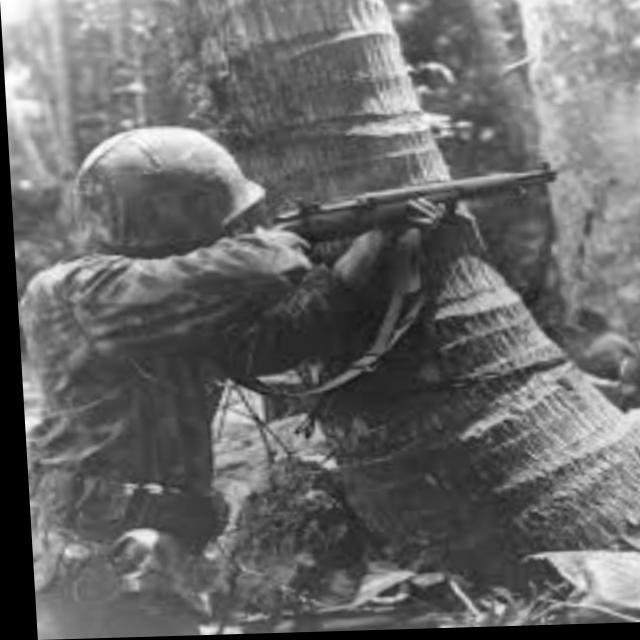other: (7, 133, 315, 632)
